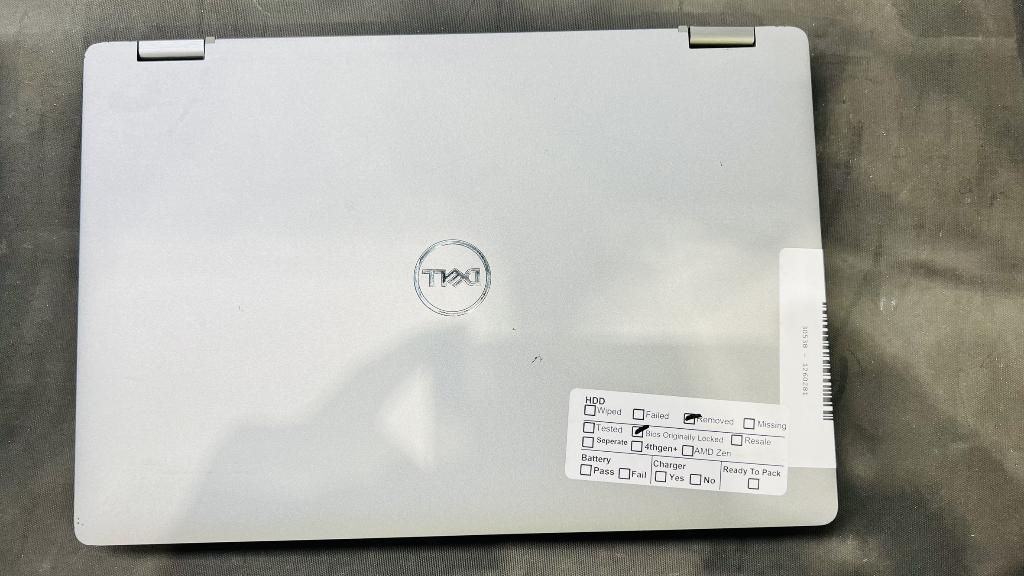scratch: (531, 355, 543, 364), (77, 517, 85, 527)
